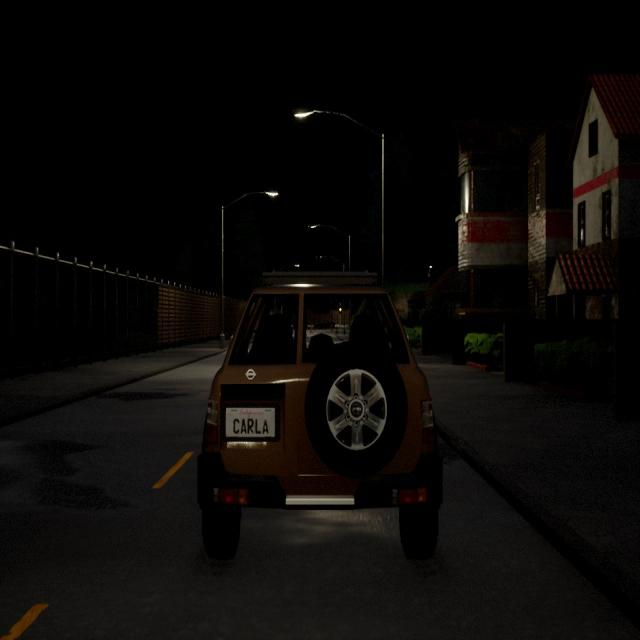Vehicle: (195, 282, 442, 564)
traffic_light: (338, 304, 343, 314)
